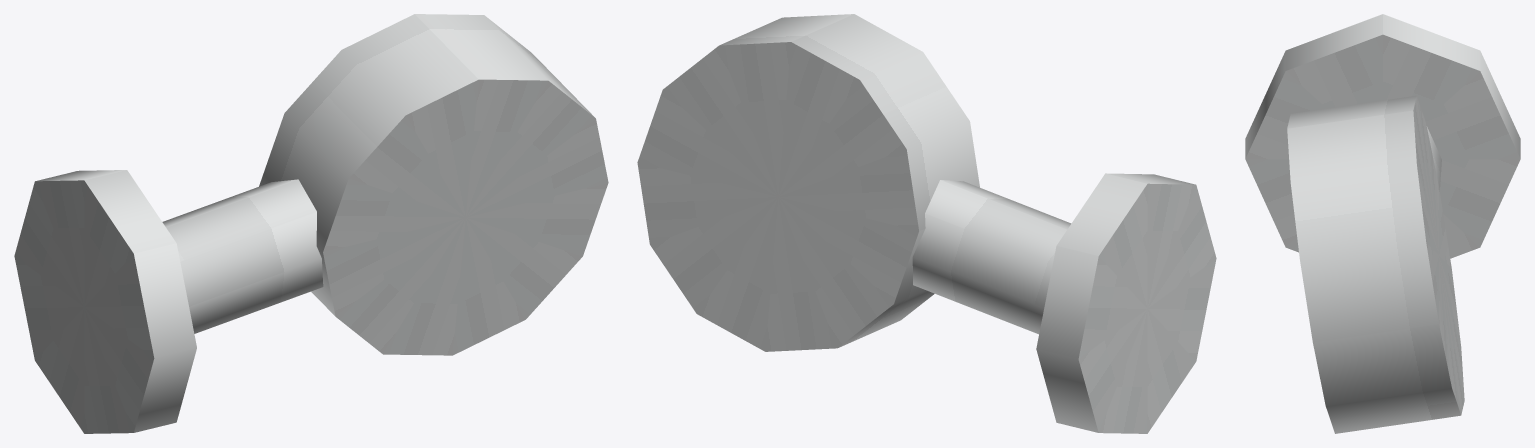
Rendered from trusssignalarm_stub_102.obj.
The picture shows the model from 3 angles, left to right: view 1: azimuth 30°, elevation 25°; view 2: azimuth 150°, elevation 25°; view 3: azimuth 270°, elevation 25°; orthographic projection.
Visible parts, largest first — view 1: trusssignalarm_stub_102; view 2: trusssignalarm_stub_102; view 3: trusssignalarm_stub_102.
Boxes of the visible parts, x1=… form: trusssignalarm_stub_102: x1=14, y1=14, x2=608, y2=433; trusssignalarm_stub_102: x1=637, y1=14, x2=1216, y2=433; trusssignalarm_stub_102: x1=1245, y1=14, x2=1520, y2=433.
Bounding box in the file's own units: 0.7056 × 0.4476 × 0.35.
